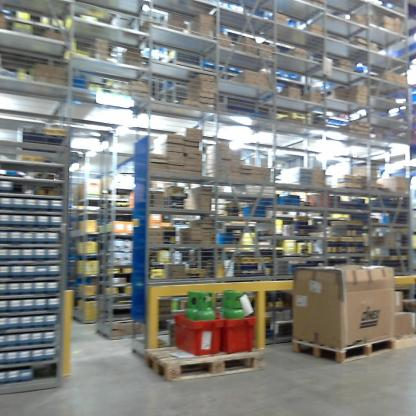pallet: (143, 342, 269, 384), (285, 328, 391, 364), (394, 328, 416, 358)
small_load_carrier: (169, 313, 224, 356), (223, 309, 261, 356)
